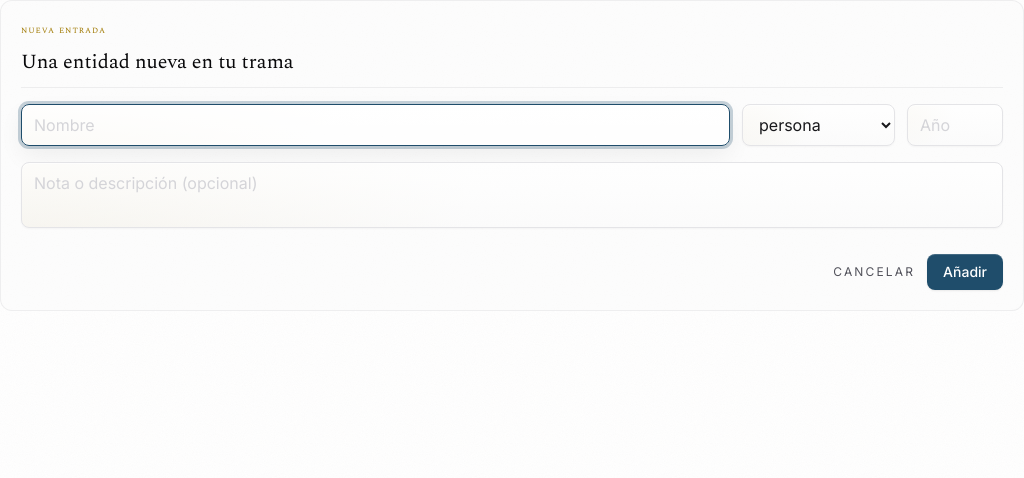
it: EntityForm › muestra dup candidates cuando server responde DuplicateEntityError
Step 1. Type "Camus" into the field with placeholder "Nombre" → [376, 125], box [21,104,730,146]
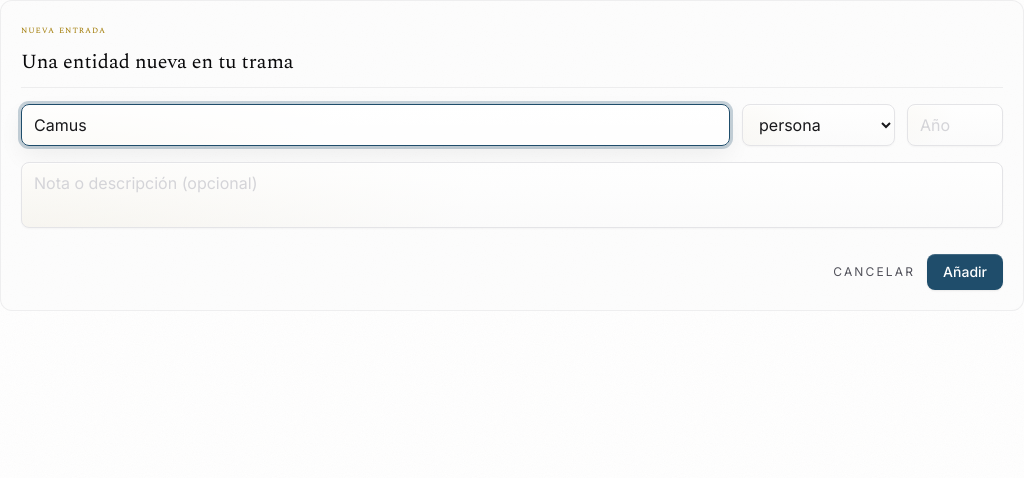
Step 2. Click the button "Añadir" → [965, 272], box [927,254,1003,290]
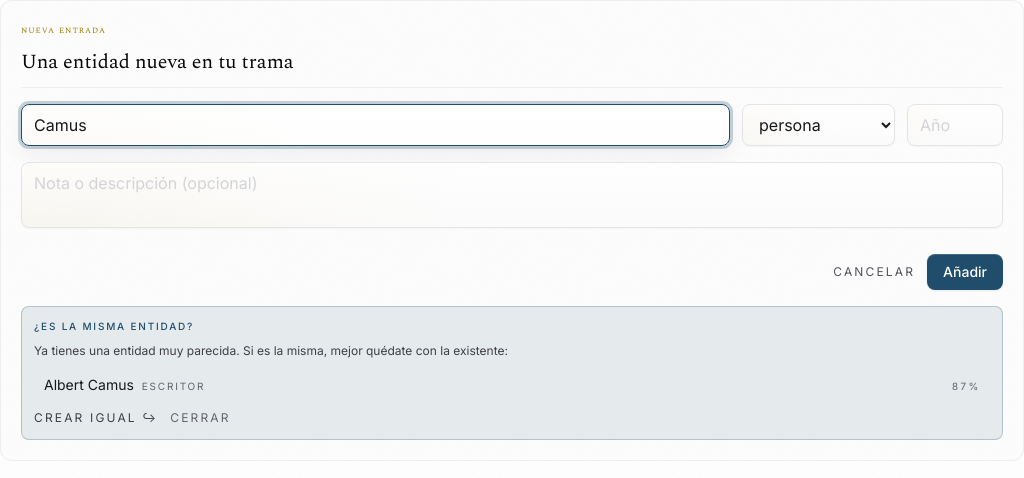
expect the text "¿es la misma entidad?" is shown: met, box [34,320,194,332]
expect the text "Albert Camus" is shown: met, box [44,376,134,392]
